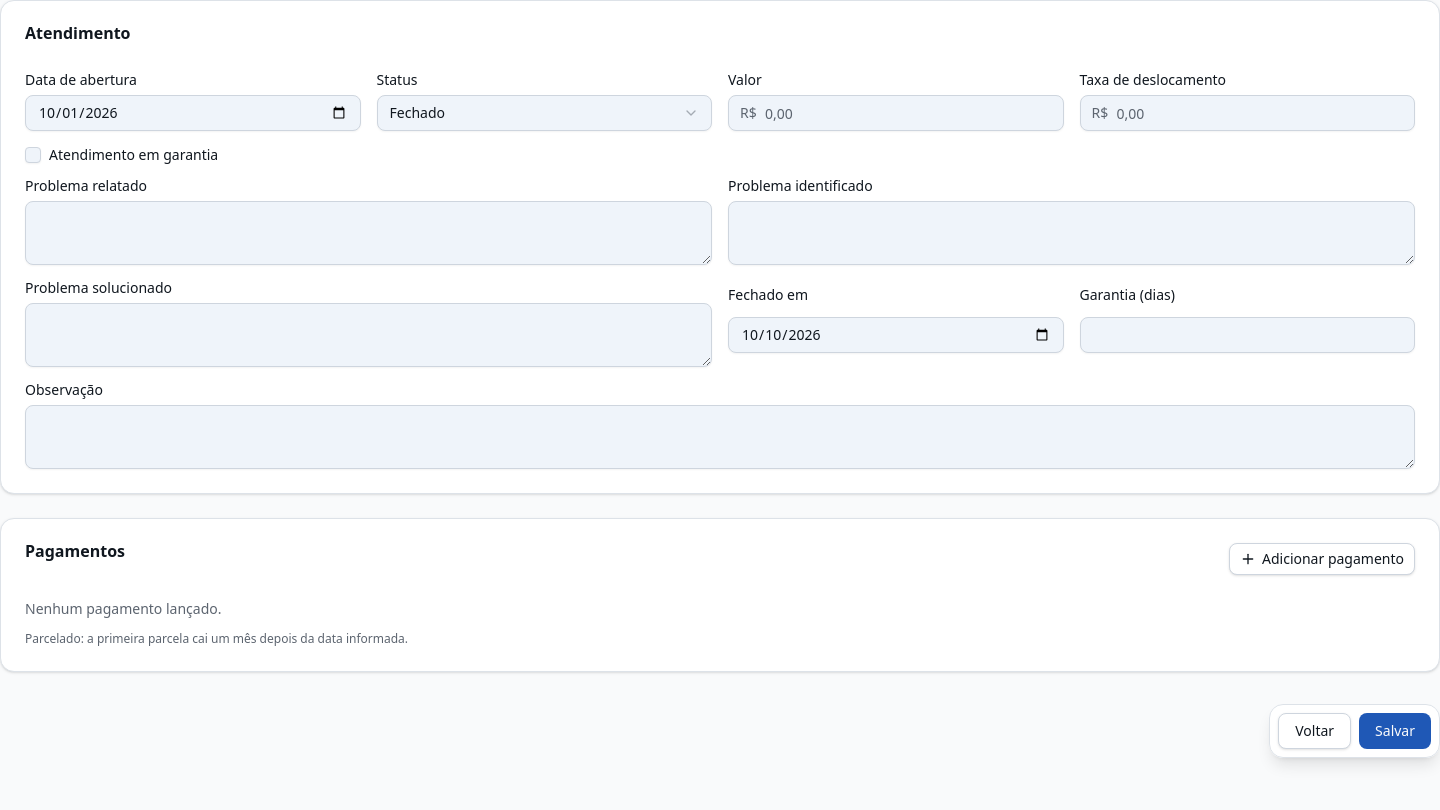
Test: OrdemServicoFormulario: o que aparece › garantia aceita só números
Type "9o dias" into the field labelled "Garantia (dias)".
click(1247, 335); type("9o dias")  # box [1080,317,1415,353]
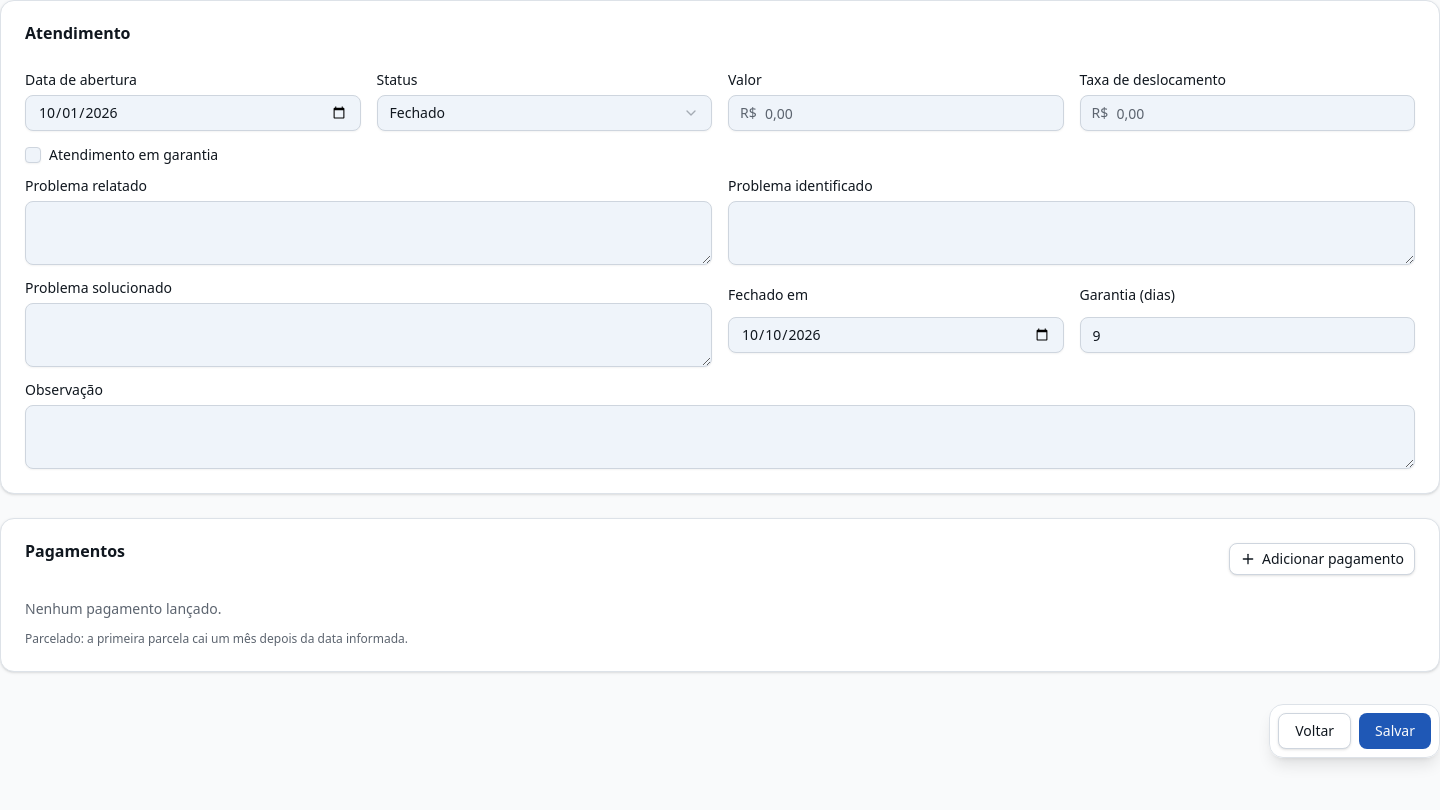
Now the field labelled "Garantia (dias)" holds "9", box [1080,317,1415,353]
